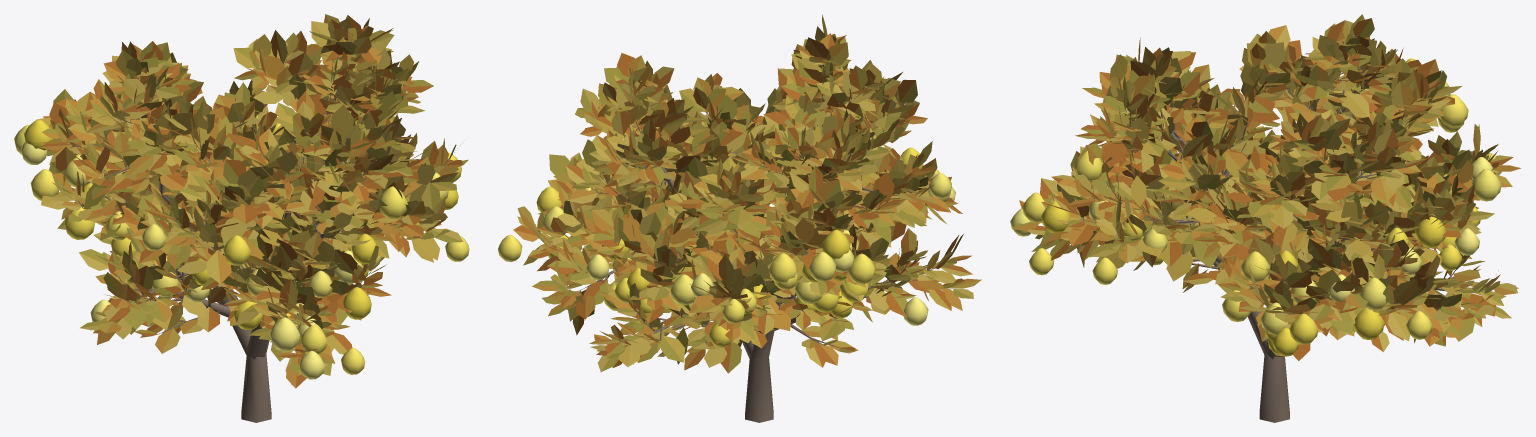
File: cognassier_vranja_automne.glb
3 renders of one model, left to right at view 1: azimuth 30°, elevation 25°; view 2: azimuth 150°, elevation 25°; view 3: azimuth 270°, elevation 25°, orthographic. The views are drawn at different scales.
Visible parts, largest first — view 1: Cognassier_Feuillage, Cognassier_Coings, Cognassier_Tronc; view 2: Cognassier_Feuillage, Cognassier_Coings, Cognassier_Tronc; view 3: Cognassier_Feuillage, Cognassier_Coings, Cognassier_Tronc.
Boxes of the visible parts, box(x1,y1,x2,y2) form: Cognassier_Feuillage: box(36, 14, 468, 388); Cognassier_Coings: box(14, 115, 469, 379); Cognassier_Tronc: box(70, 58, 448, 422); Cognassier_Feuillage: box(513, 14, 981, 373); Cognassier_Coings: box(498, 147, 955, 347); Cognassier_Tronc: box(537, 65, 952, 422); Cognassier_Feuillage: box(1012, 14, 1520, 360); Cognassier_Coings: box(1010, 58, 1502, 356); Cognassier_Tronc: box(1073, 56, 1489, 422).
Size of the model in its own units: 3.26 by 2.7 by 3.42.
